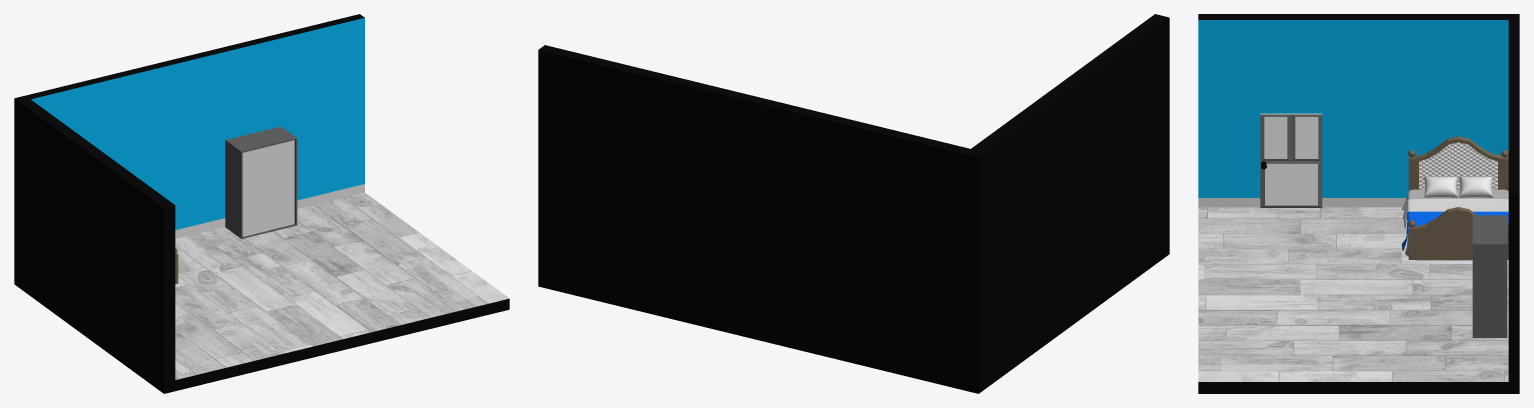
Rendered from RoomAAA.glb.
3 views of the same model, side by side, from view 1: azimuth 30°, elevation 25°; view 2: azimuth 150°, elevation 25°; view 3: azimuth 270°, elevation 25° (orthographic). The views are drawn at different scales.
Visible parts, largest first — view 1: Room, Cube.001, Cube.002, Cube.004; view 2: Room; view 3: Room, Door, Cube.001, BedFrame, Cube, Duvet, BedPosts, Pillow.002, Pillow, Sheet.
Part boxes in pixels (<box>): Room: <box>14,14,509,393</box>; Cube.001: <box>225,126,297,238</box>; Cube.002: <box>242,146,268,236</box>; Cube.004: <box>268,140,294,230</box>; Room: <box>538,14,1169,393</box>; Room: <box>1198,14,1519,393</box>; Door: <box>1260,113,1322,207</box>; Cube.001: <box>1472,215,1507,337</box>; BedFrame: <box>1415,136,1501,260</box>; Cube: <box>1419,142,1497,189</box>; Duvet: <box>1401,199,1508,251</box>; BedPosts: <box>1408,150,1508,259</box>; Pillow.002: <box>1458,176,1493,197</box>; Pillow: <box>1423,176,1458,197</box>; Sheet: <box>1402,189,1508,256</box>.
Size of the model in its own units: 4.13 by 2.12 by 3.1.
19 materials, 1 textured.
